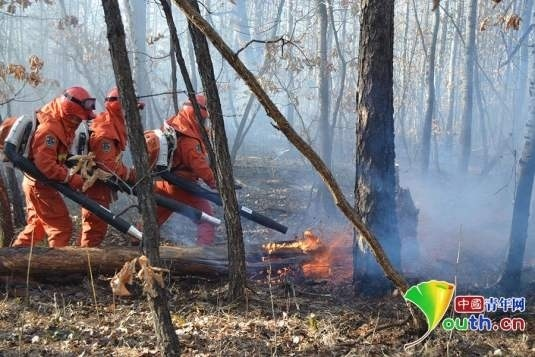fire: (257, 227, 344, 277)
